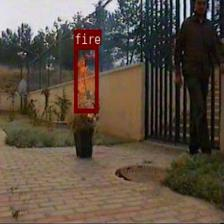fire: (74, 45, 98, 112)
